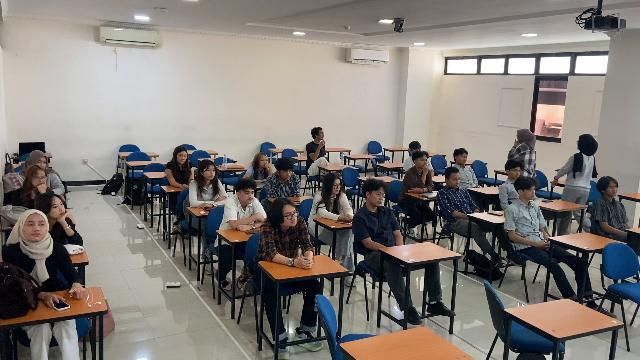fokus: (26, 219, 45, 240), (283, 205, 298, 228), (372, 187, 385, 208), (50, 201, 66, 218), (32, 172, 46, 189), (202, 165, 216, 181), (241, 189, 255, 202), (609, 182, 619, 197), (259, 155, 269, 169), (419, 156, 429, 170), (451, 175, 461, 189), (526, 186, 536, 200), (37, 158, 49, 169), (177, 152, 188, 164), (281, 168, 292, 180), (333, 179, 341, 194), (459, 152, 468, 165), (511, 168, 521, 179), (413, 145, 422, 154)
